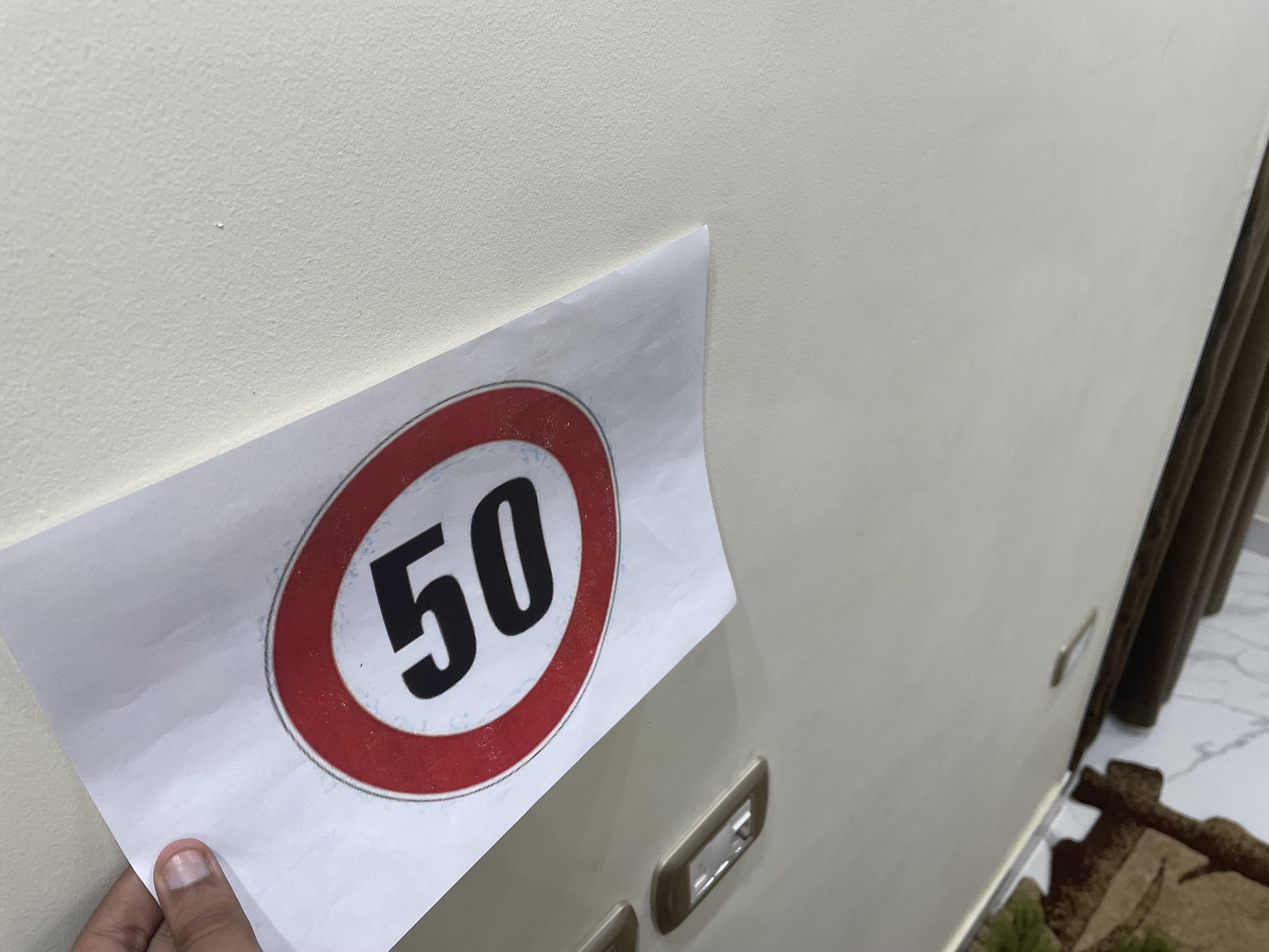50-Speed: (268, 375, 629, 810)
